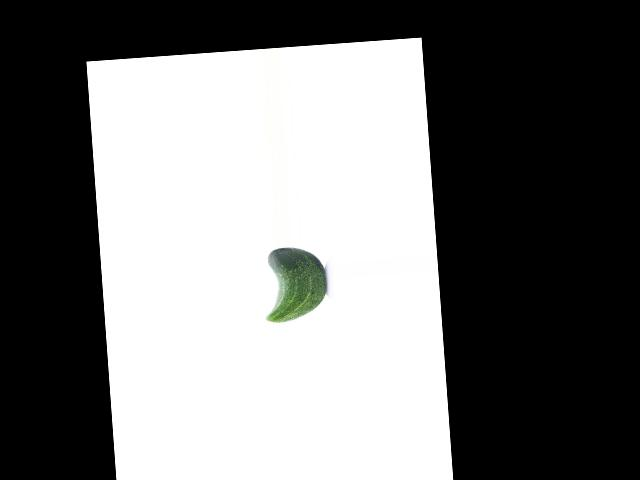cucumber: (261, 245, 329, 324)
